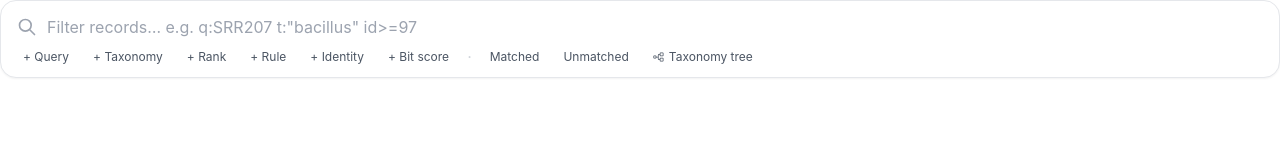
Test: FilterBar › '+ Rank' inserts rank: into the box and focuses it
The image size is (1280, 160).
Click the button "+ Rank" at (206, 57), box [177,47,236,67]
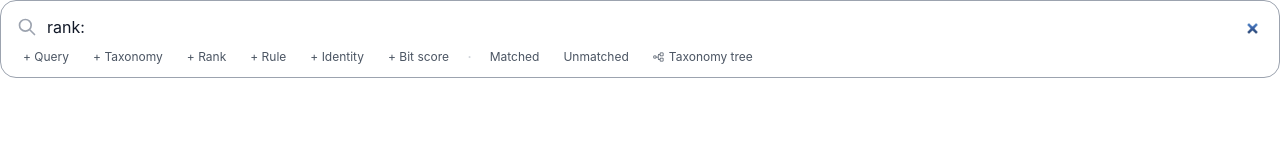
expect the dropdown named "Filter records" holds "rank:": met, box [45,13,1263,41]
